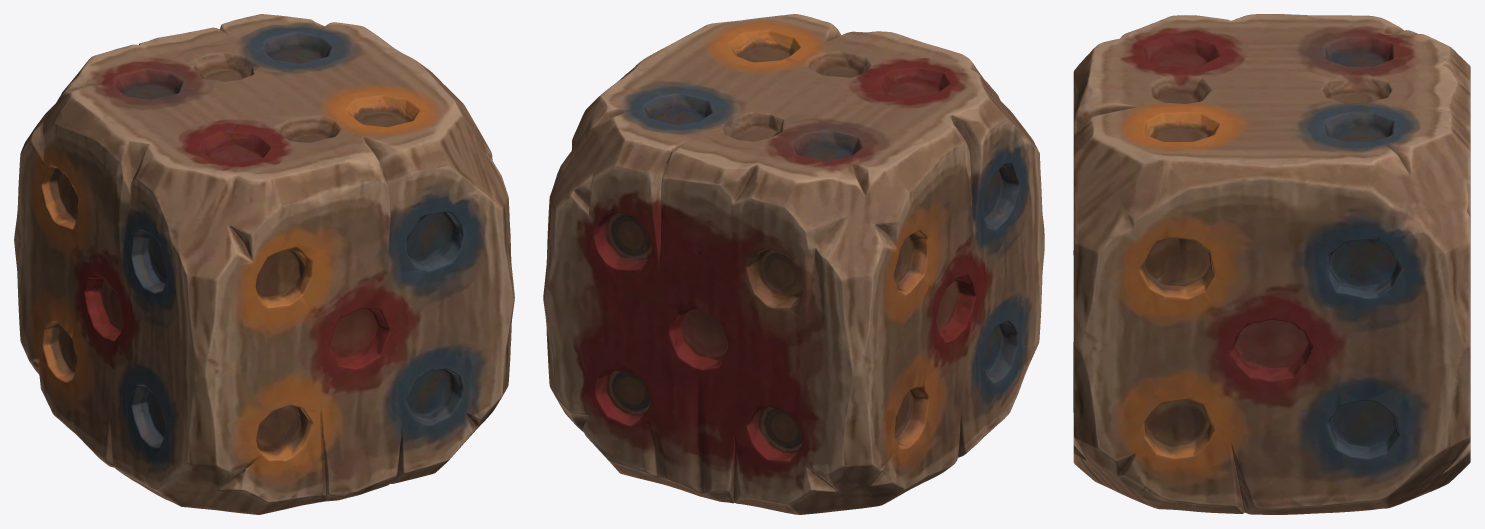
3 views of the same model, side by side, from view 1: azimuth 30°, elevation 25°; view 2: azimuth 150°, elevation 25°; view 3: azimuth 270°, elevation 25° (orthographic). The views are drawn at different scales.
Parts seen in each view (by area): view 1: Mesh_0; view 2: Mesh_0; view 3: Mesh_0.
Part boxes in pixels (bbox=[...]): Mesh_0: bbox=[14, 14, 514, 514]; Mesh_0: bbox=[543, 14, 1044, 514]; Mesh_0: bbox=[1073, 14, 1470, 514].
Size of the model in its own units: 1.37 by 1.36 by 1.4.
Materials: 1 (1 with a texture image).
